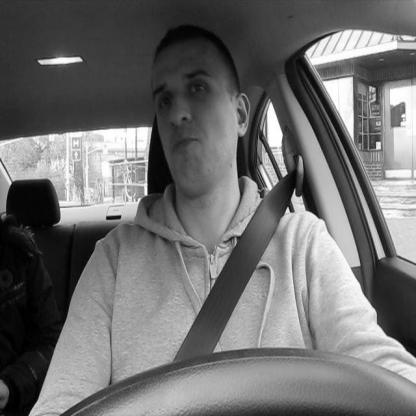seatbelt: (138, 19, 288, 354)
